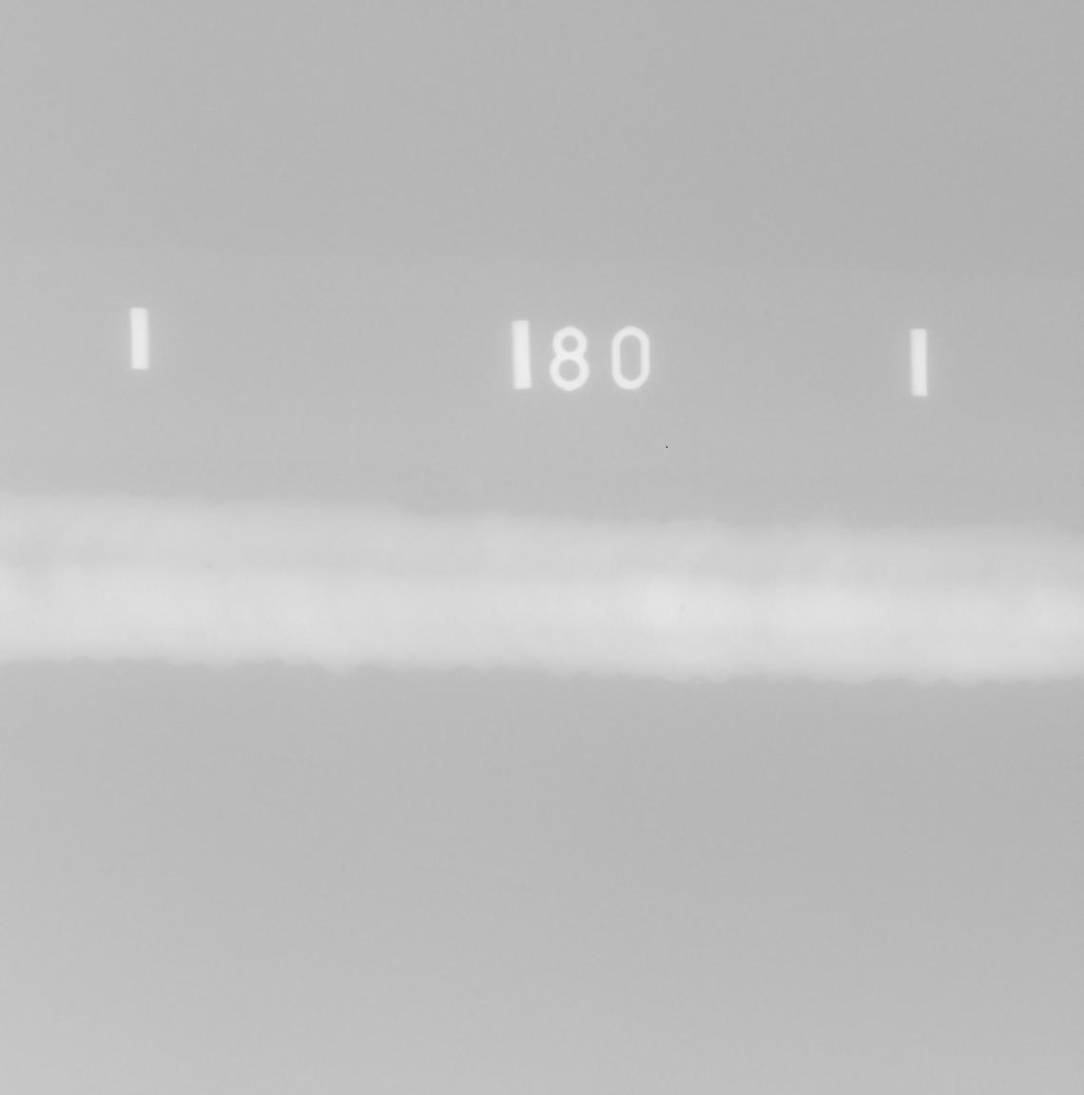Pore/Porosity: (206, 564, 215, 570), (679, 605, 686, 612), (475, 548, 482, 553), (231, 566, 237, 571), (943, 588, 949, 593), (513, 600, 516, 603)
